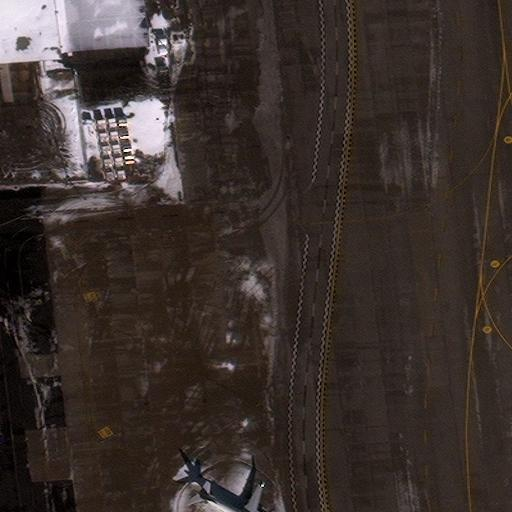Medium Civil Transport: (196, 484, 274, 512)
